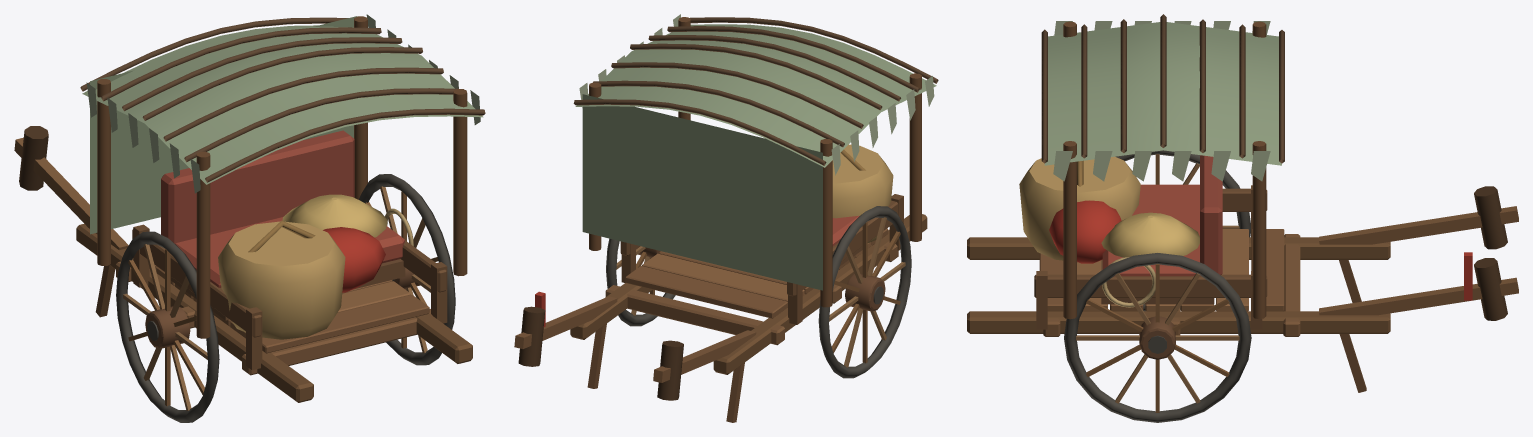
File: rickshaw.glb
3 views of the same model, side by side, from view 1: azimuth 30°, elevation 25°; view 2: azimuth 150°, elevation 25°; view 3: azimuth 270°, elevation 25° (orthographic). The views are drawn at different scales.
Visible parts, largest first — view 1: Rickshaw_V_Cloth, Rickshaw_V_Wood, Rickshaw_V_Red, Rickshaw_V_Straw, Rickshaw_V_WoodDark, Wheel_L, Wheel_R; view 2: Rickshaw_V_Cloth, Rickshaw_V_Wood, Rickshaw_V_WoodDark, Wheel_L, Rickshaw_V_Straw, Wheel_R, Rickshaw_V_Red; view 3: Rickshaw_V_Wood, Rickshaw_V_Cloth, Wheel_R, Rickshaw_V_Straw, Rickshaw_V_WoodDark, Rickshaw_V_Red, Wheel_L.
Part boxes in pixels (x1=…): Rickshaw_V_Cloth: x1=82, y1=14, x2=483, y2=234; Rickshaw_V_Wood: x1=14, y1=16, x2=472, y2=402; Rickshaw_V_Red: x1=161, y1=130, x2=404, y2=292; Rickshaw_V_Straw: x1=218, y1=194, x2=413, y2=339; Rickshaw_V_WoodDark: x1=19, y1=17, x2=485, y2=190; Wheel_L: x1=116, y1=231, x2=219, y2=422; Wheel_R: x1=359, y1=174, x2=455, y2=365; Rickshaw_V_Cloth: x1=575, y1=14, x2=936, y2=290; Rickshaw_V_Wood: x1=514, y1=17, x2=927, y2=422; Rickshaw_V_WoodDark: x1=518, y1=17, x2=938, y2=400; Wheel_L: x1=818, y1=206, x2=911, y2=378; Rickshaw_V_Straw: x1=832, y1=144, x2=893, y2=243; Wheel_R: x1=606, y1=238, x2=675, y2=326; Rickshaw_V_Red: x1=535, y1=215, x2=859, y2=326; Rickshaw_V_Wood: x1=967, y1=21, x2=1518, y2=392; Rickshaw_V_Cloth: x1=1044, y1=21, x2=1281, y2=181; Wheel_R: x1=1064, y1=253, x2=1251, y2=422; Rickshaw_V_Straw: x1=1019, y1=156, x2=1199, y2=307; Rickshaw_V_WoodDark: x1=1041, y1=14, x2=1507, y2=320; Rickshaw_V_Red: x1=1049, y1=155, x2=1472, y2=300; Wheel_L: x1=1115, y1=150, x2=1250, y2=311.
Size of the model in its own units: 2.18 by 2.44 by 3.91.
